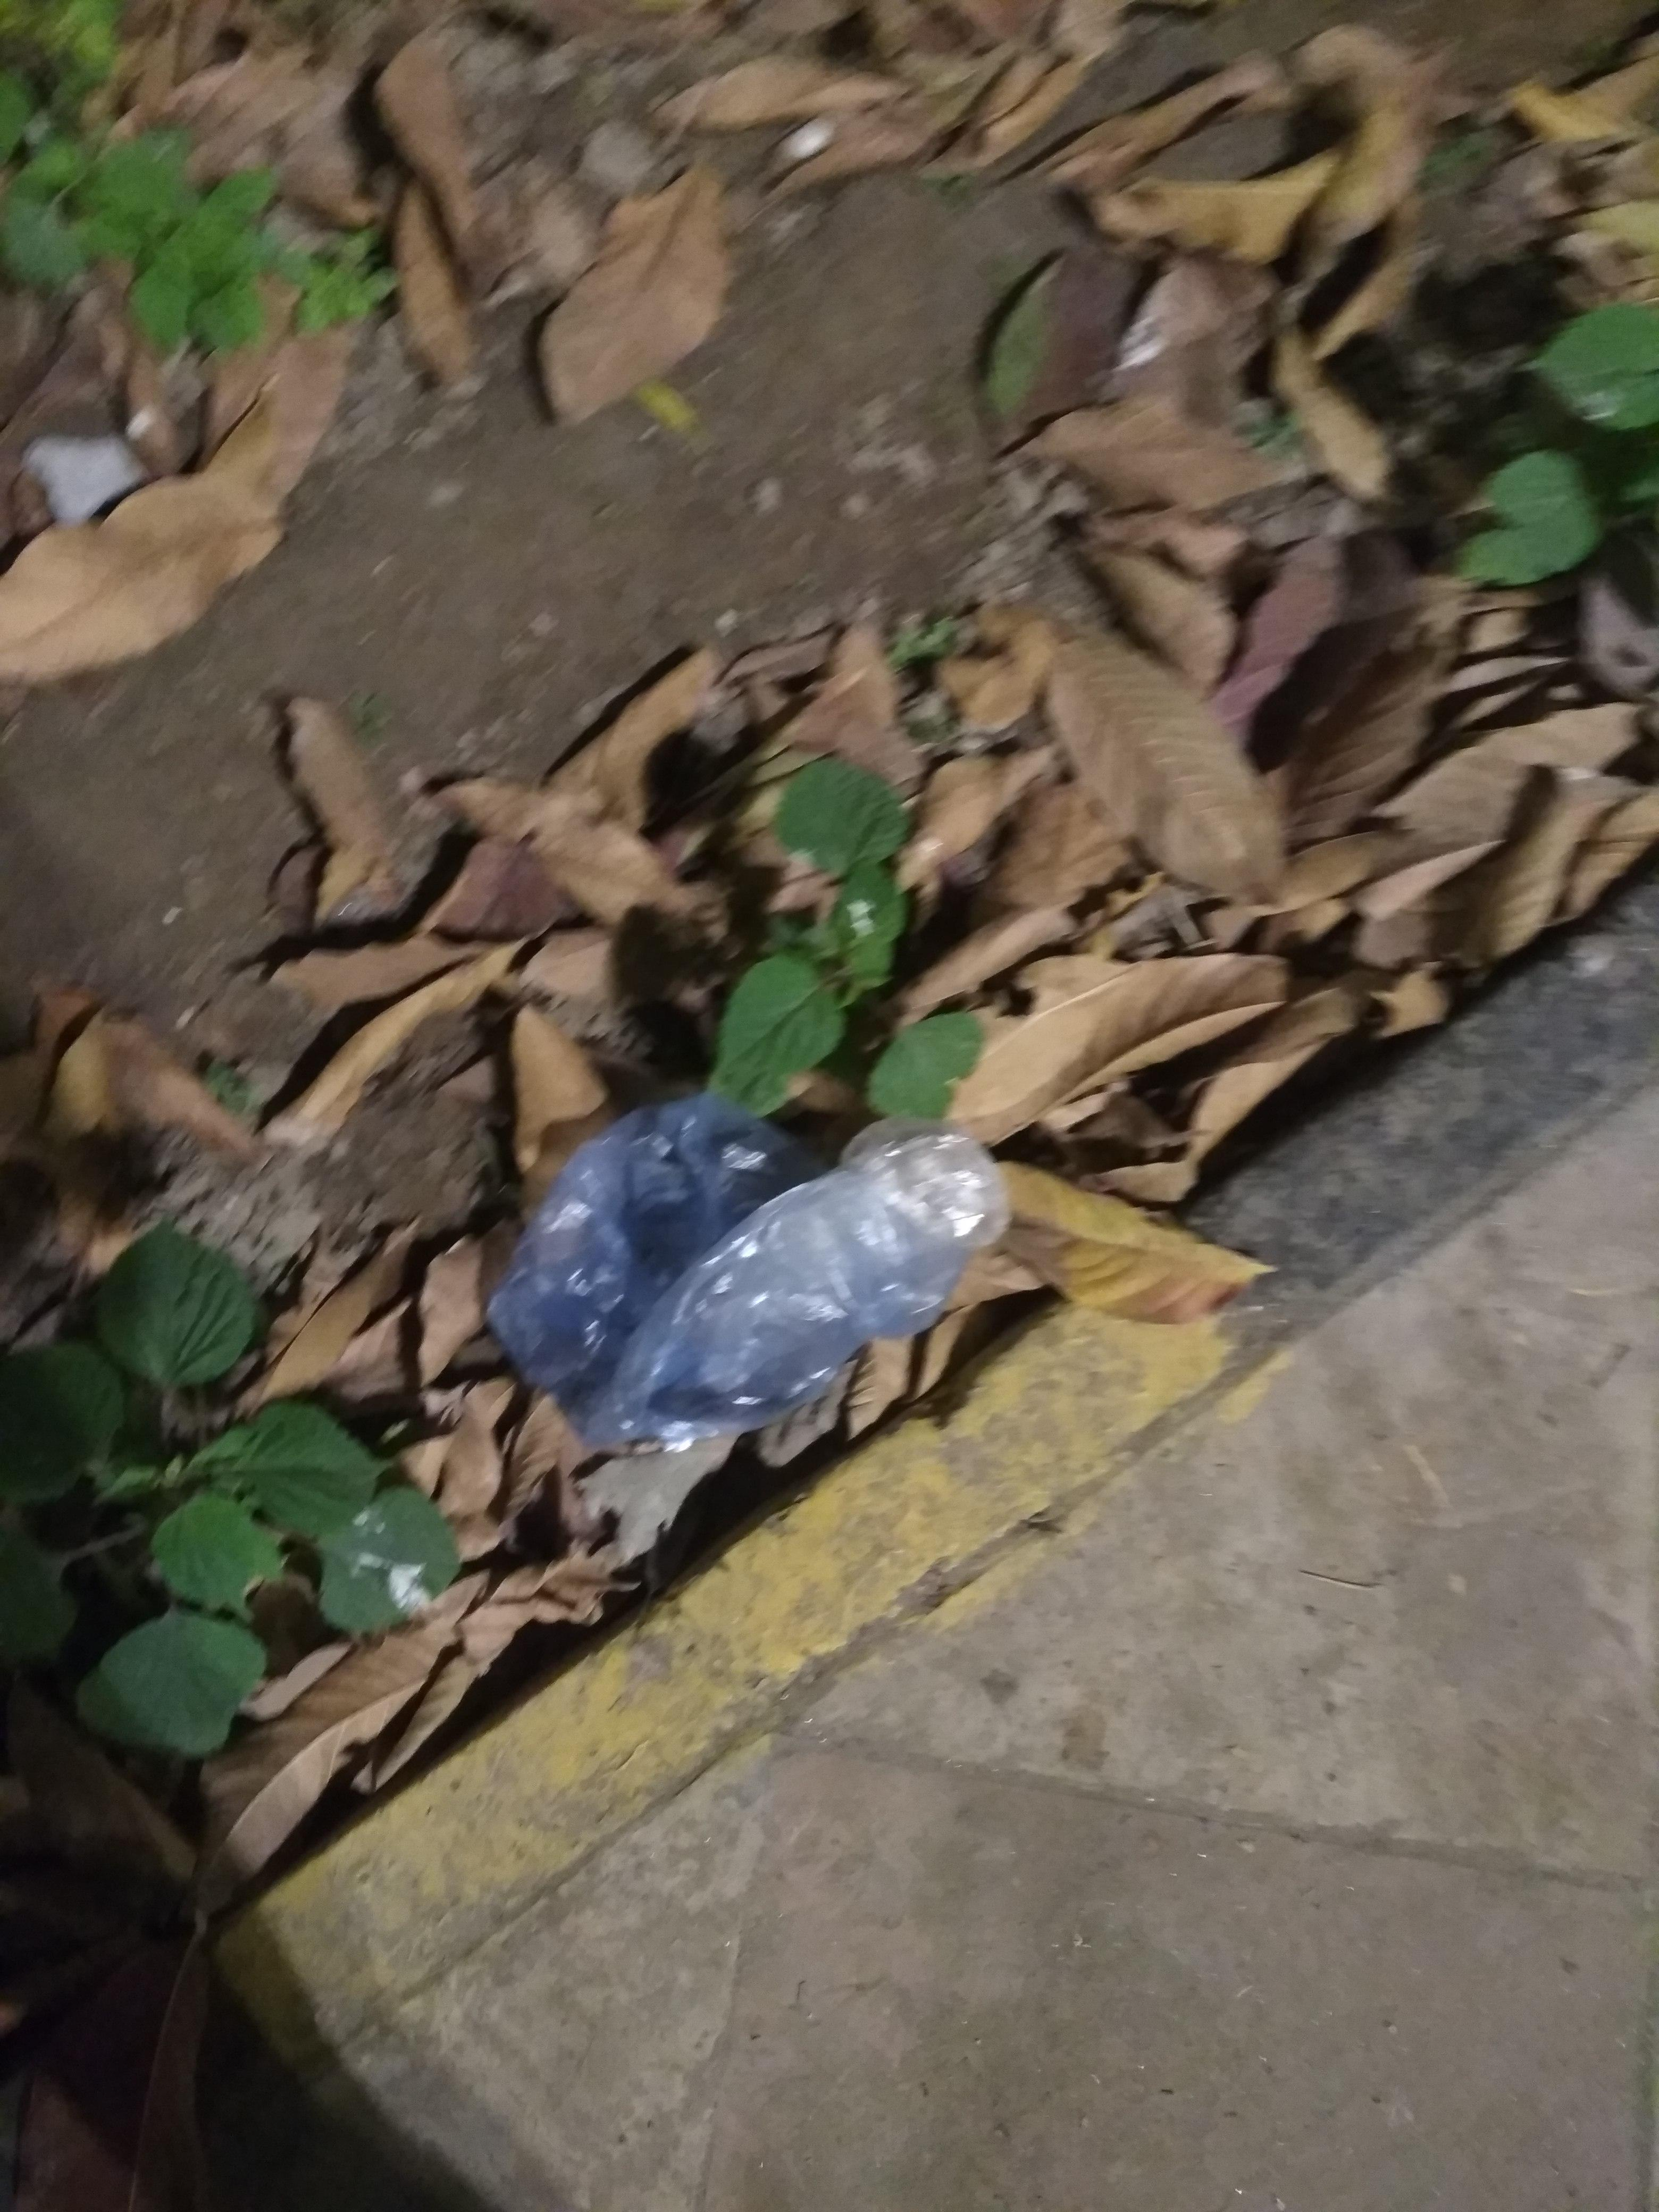trash: (476, 1085, 1040, 1468)
